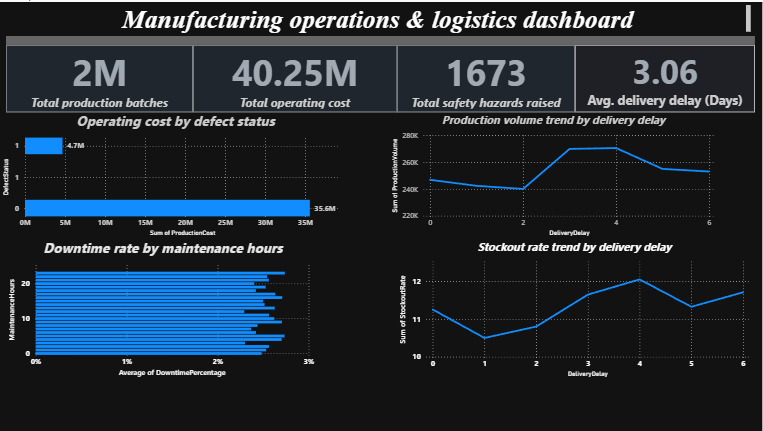

The page's visual inventory and layout, read from the dashboard file:
{"tool":"powerbi","page":{"name":"Master Dashboard","canvas":[1280,720],"ordinal":3},"visuals":[{"type":"shape","box":[10.1,57.1,1258.2,15.1],"z":0},{"type":"textbox","box":[10.1,0,1256.5,57.1],"z":1},{"type":"clusteredBarChart","title":"Operating cost by defect status","fields":{"Y":["Sum(manufacturing_clean.ProductionCost)"],"Category":["manufacturing_clean.DefectStatus"]},"box":[0,184.8,589.6,213.3],"z":2},{"type":"lineChart","title":"Production volume trend by delivery delay","fields":{"Y":["Sum(manufacturing_clean.ProductionVolume)"],"Category":["manufacturing_clean.DeliveryDelay"]},"box":[653.4,184.8,552.7,213.3],"z":3},{"type":"clusteredBarChart","title":"Downtime rate by maintenance hours","fields":{"Y":["Avg(manufacturing_clean.DowntimePercentage)"],"Category":["manufacturing_clean.MaintenanceHours"]},"box":[10.1,398.1,527.5,236.9],"z":4},{"type":"lineChart","title":"Stockout rate trend by delivery delay","fields":{"Category":["manufacturing_clean.DeliveryDelay"],"Y":["Sum(manufacturing_clean.StockoutRate)"]},"box":[666.9,398.1,596.3,236.9],"z":5},{"type":"card","fields":{"Values":["Sum(manufacturing_clean.ProductionVolume)"]},"box":[10.1,72.2,314.1,112.5],"z":6},{"type":"card","fields":{"Values":["Sum(manufacturing_clean.ProductionCost)"]},"box":[324.2,72.2,342.7,112.5],"z":7},{"type":"card","fields":{"Values":["Sum(manufacturing_clean.SafetyIncidents)"]},"box":[666.9,72.2,299,112.5],"z":8},{"type":"card","fields":{"Values":["Avg(manufacturing_clean.DeliveryDelay)"]},"box":[965.9,72.2,302.4,112.5],"z":9}]}

Visuals, with their boxes in screenshot pixels (x1, y1, x2, y2), scaled from the page's 1280x720 canvas onto the 763x431 screenshot:
shape: {"x1": 6, "y1": 34, "x2": 756, "y2": 43}
textbox: {"x1": 6, "y1": 0, "x2": 755, "y2": 34}
"Operating cost by defect status" clusteredBarChart: {"x1": 0, "y1": 111, "x2": 351, "y2": 238}
"Production volume trend by delivery delay" lineChart: {"x1": 389, "y1": 111, "x2": 719, "y2": 238}
"Downtime rate by maintenance hours" clusteredBarChart: {"x1": 6, "y1": 238, "x2": 320, "y2": 380}
"Stockout rate trend by delivery delay" lineChart: {"x1": 398, "y1": 238, "x2": 753, "y2": 380}
card - Sum(manufacturing_clean.ProductionVolume): {"x1": 6, "y1": 43, "x2": 193, "y2": 111}
card - Sum(manufacturing_clean.ProductionCost): {"x1": 193, "y1": 43, "x2": 398, "y2": 111}
card - Sum(manufacturing_clean.SafetyIncidents): {"x1": 398, "y1": 43, "x2": 576, "y2": 111}
card - Avg(manufacturing_clean.DeliveryDelay): {"x1": 576, "y1": 43, "x2": 756, "y2": 111}
